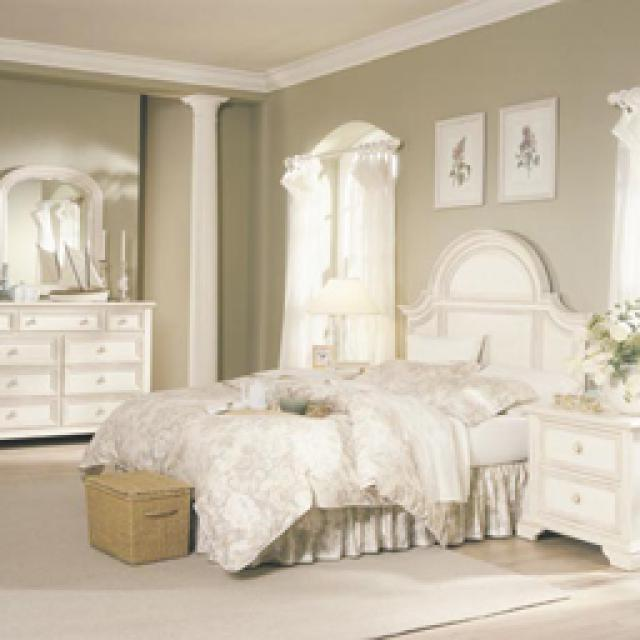2001: (278, 122, 395, 360)
basket crop: (85, 465, 190, 562)
bed -occluded-: (75, 225, 588, 570)
boat decoration: (42, 248, 108, 300)
bouquet: (582, 298, 638, 412)
candle holder: (112, 228, 128, 300)
curtain crop: (272, 152, 330, 362), (345, 140, 392, 362), (602, 85, 638, 302)
dresser: (0, 300, 150, 438)
lamp crop: (300, 275, 375, 362)
mirror crop: (0, 165, 102, 298)
night stand part: (515, 395, 638, 565)
painting crop: (492, 92, 558, 202), (430, 110, 482, 205)
pillow occluded: (410, 375, 528, 420), (345, 355, 450, 395), (402, 330, 478, 360)
rug -partially obscured-: (0, 450, 568, 638)
